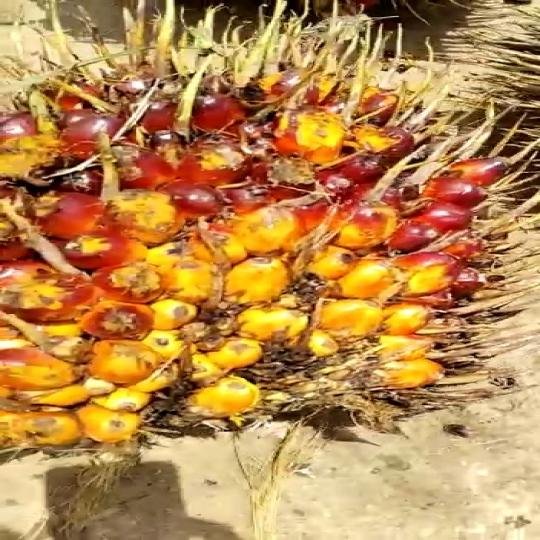masak: (0, 21, 540, 428)
